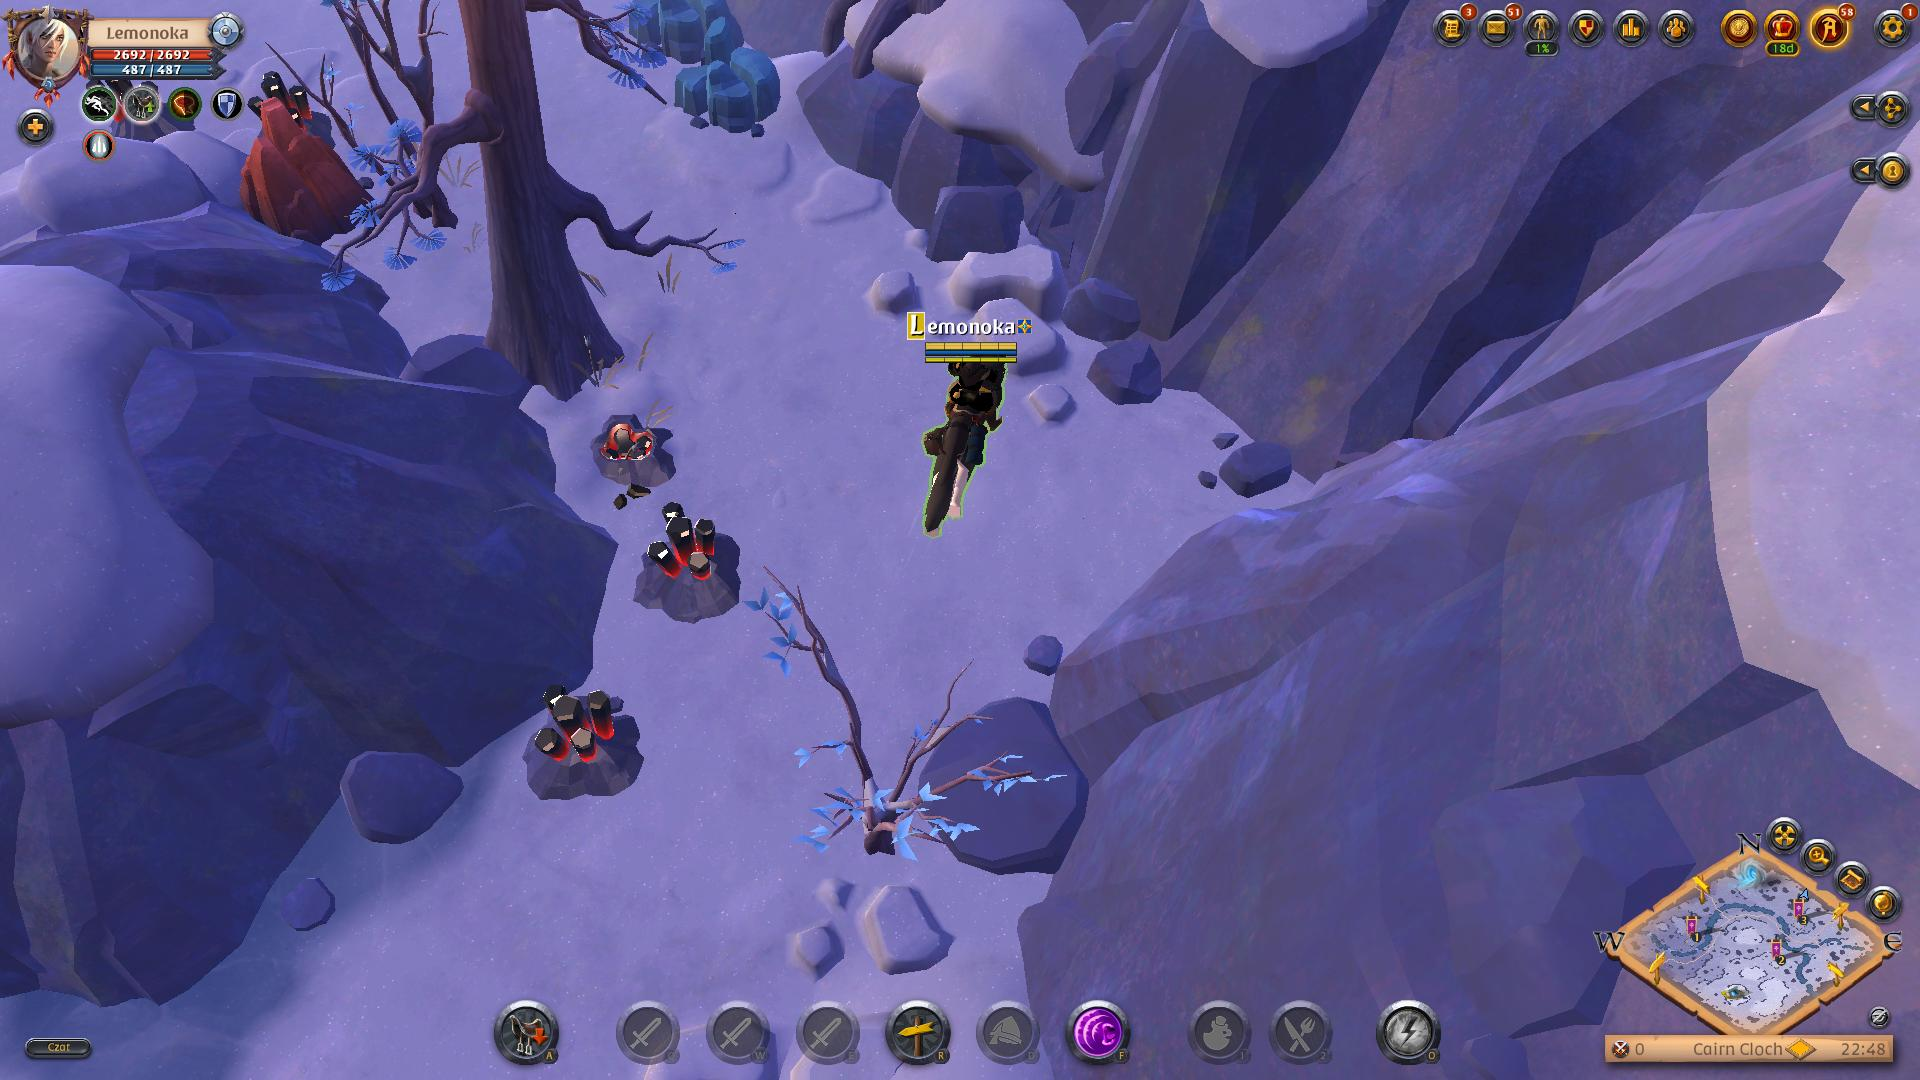ore tier 5: (520, 674, 658, 814), (634, 502, 756, 624)
rock tier 4: (670, 17, 783, 137)
rock tier 5: (235, 95, 373, 251)
